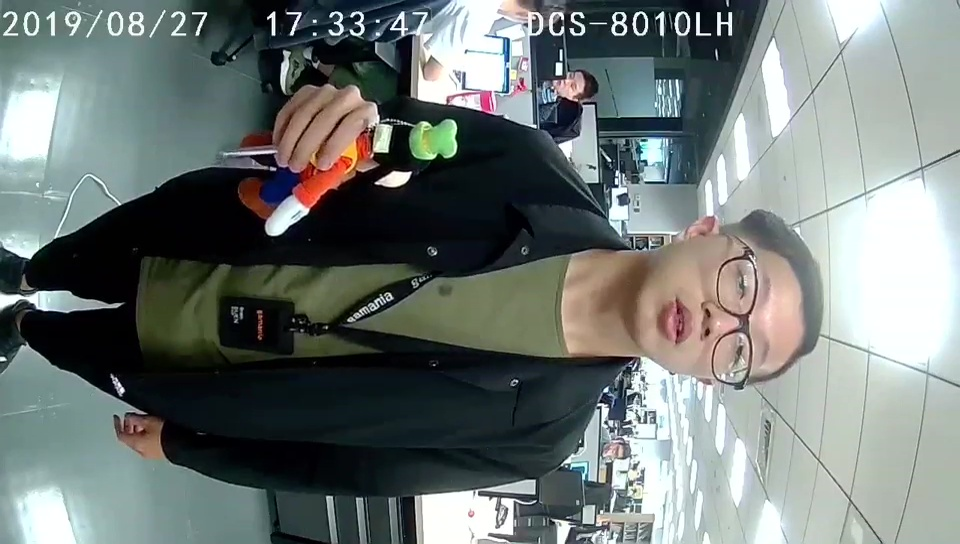goofy: (240, 113, 460, 235)
